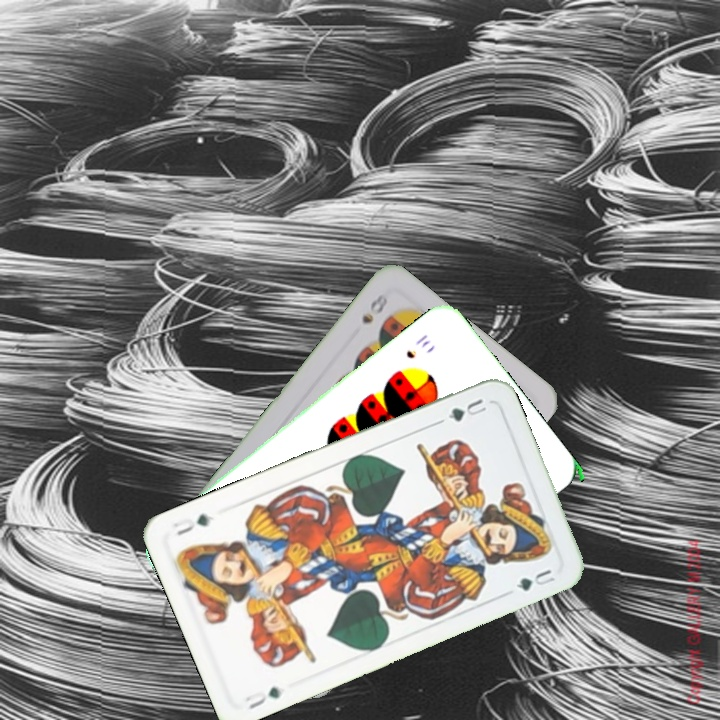GU: (444, 394, 490, 425), (241, 682, 285, 712)
S10: (402, 329, 433, 361)
S8: (357, 289, 390, 326)
